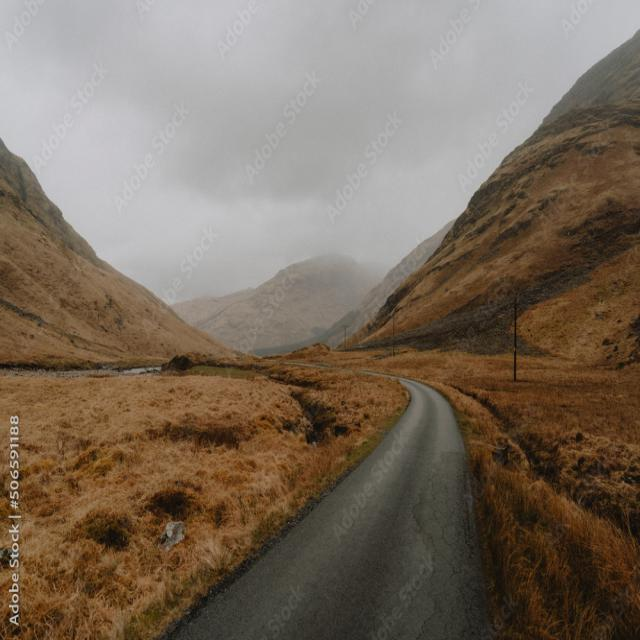Pothole: (414, 464, 510, 640)
